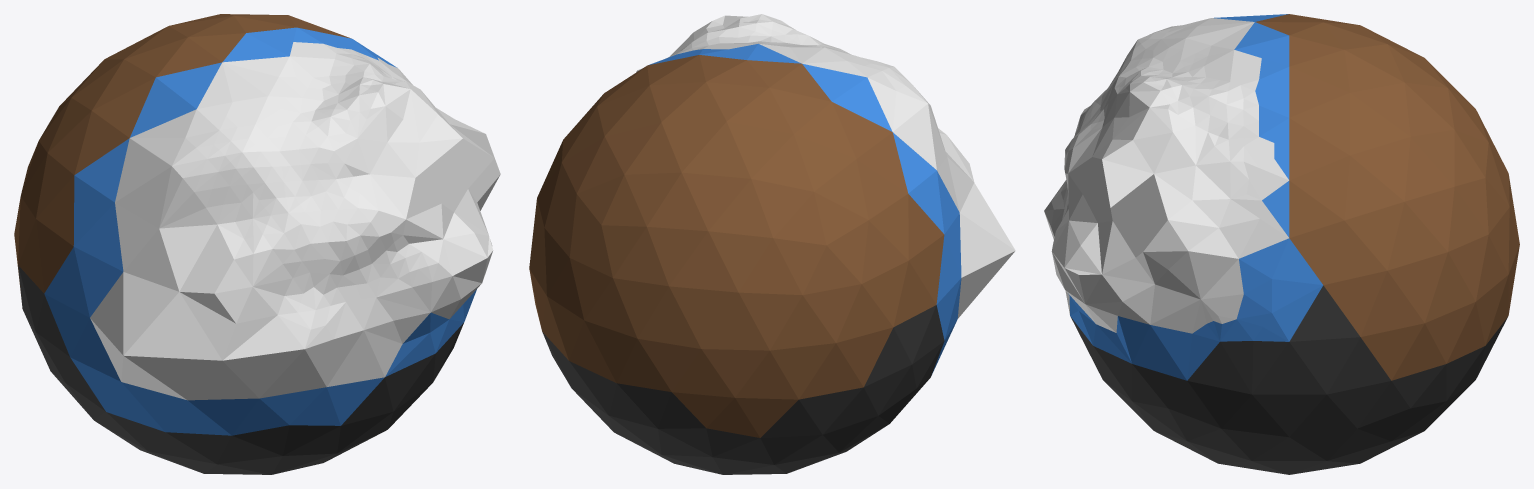
The model's file is planet 1o2o3x.fbx.
3 views of the same model, side by side, from view 1: azimuth 30°, elevation 25°; view 2: azimuth 150°, elevation 25°; view 3: azimuth 270°, elevation 25° (orthographic). The views are drawn at different scales.
Parts seen in each view (by area): view 1: Icosphere.006; view 2: Icosphere.006; view 3: Icosphere.006.
Part boxes in pixels (x1,y1,x2,y2): Icosphere.006: [14, 14, 500, 474]; Icosphere.006: [529, 14, 1015, 474]; Icosphere.006: [1044, 14, 1519, 474].
Size of the model in its own units: 2013 by 2000 by 2064.
